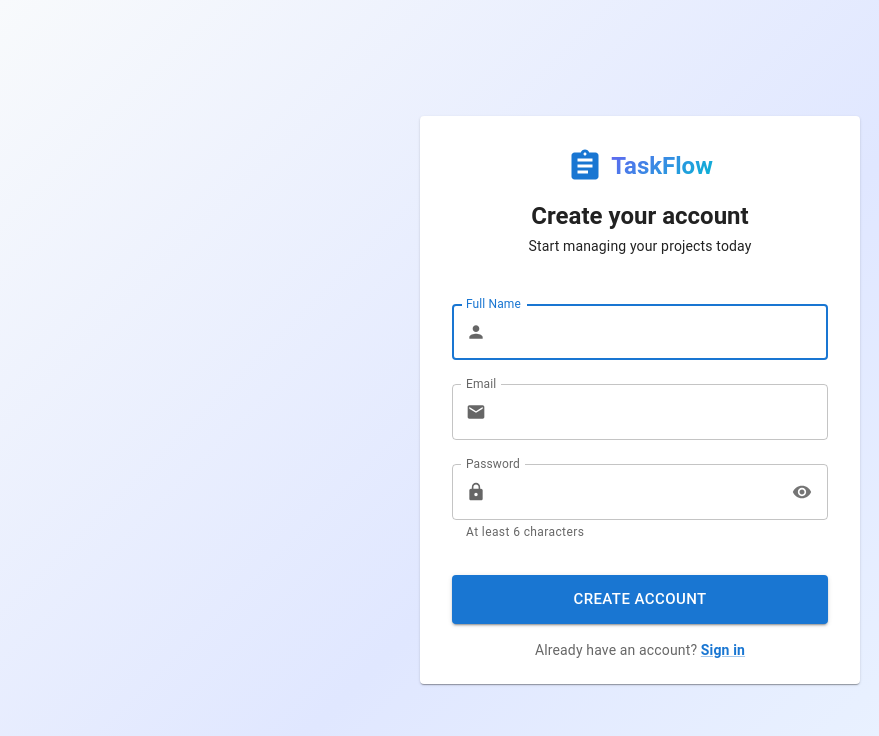
Test: RegisterForm › displays server error on failure
Type "Test" into the field labelled "Full Name" at (661, 332), box [494,304,828,360]
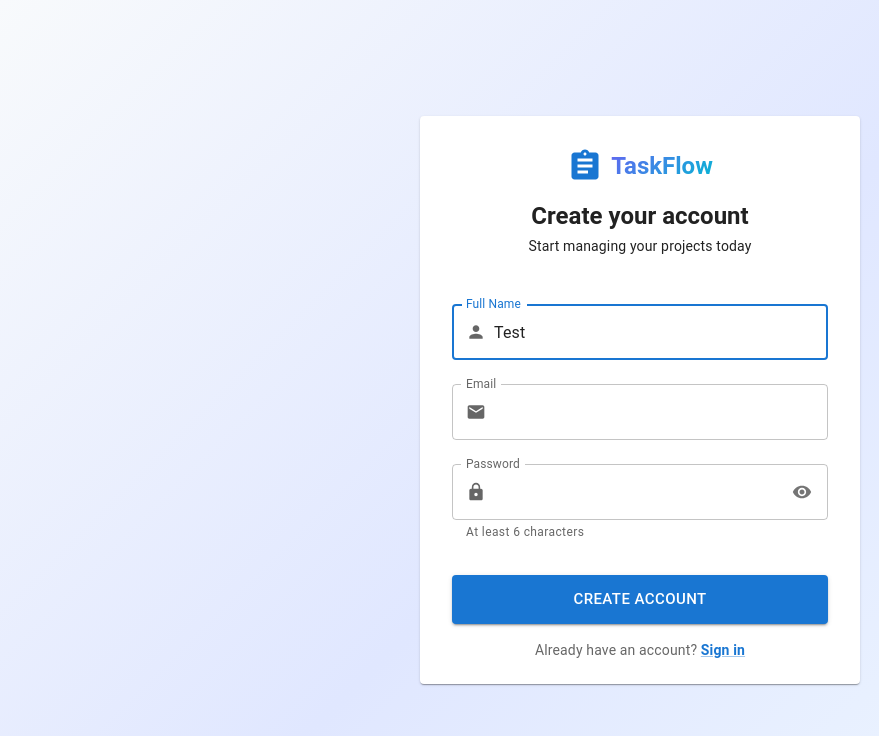
Type "dup@test.com" into the field labelled "Email" at (661, 412), box [494,384,828,440]
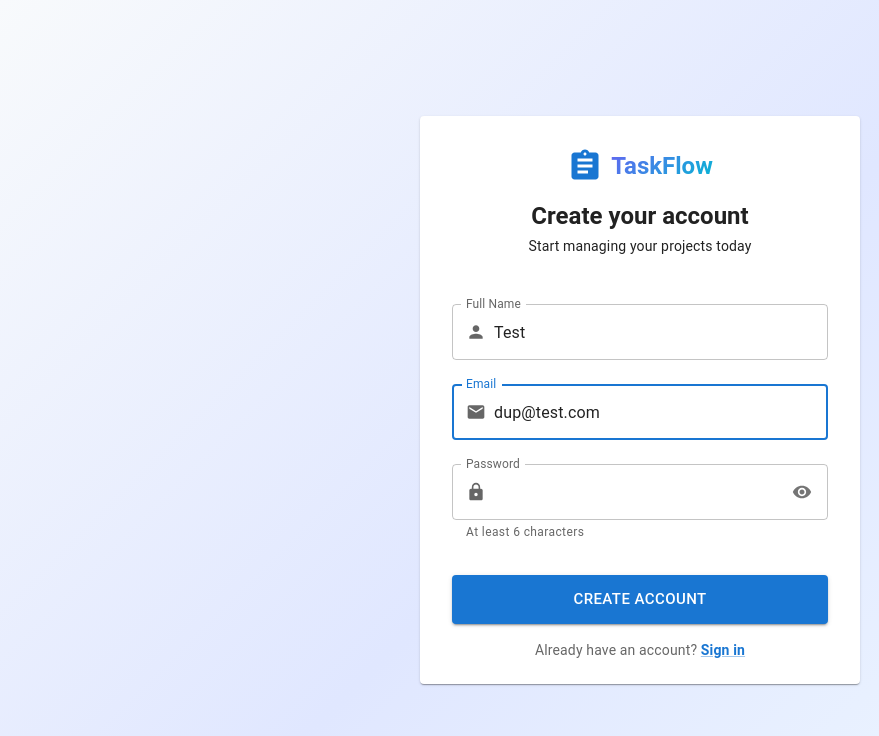
Type "password123" into the password field labelled "Password" at (636, 492), box [494,464,779,520]
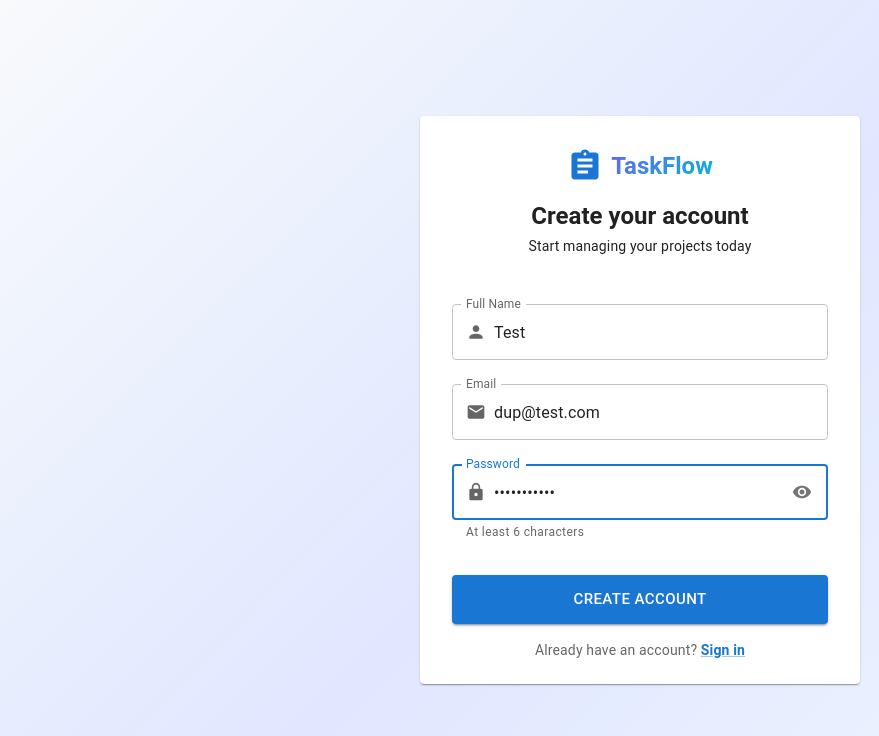
Click the button "Create Account" at (640, 599), box [452,575,828,624]
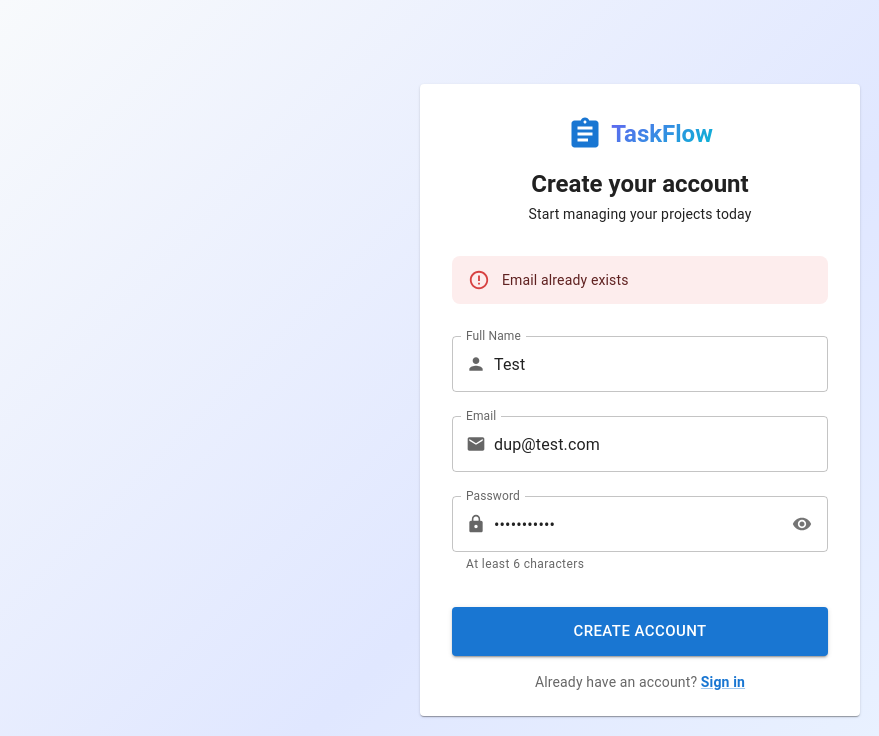
Check: the text "Email already exists" is shown, box [502,272,629,288]
